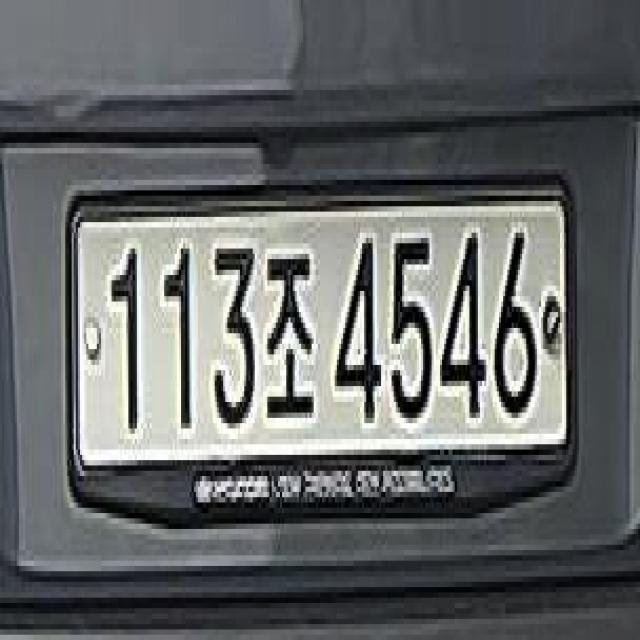illegal_plate: (64, 176, 573, 532)
